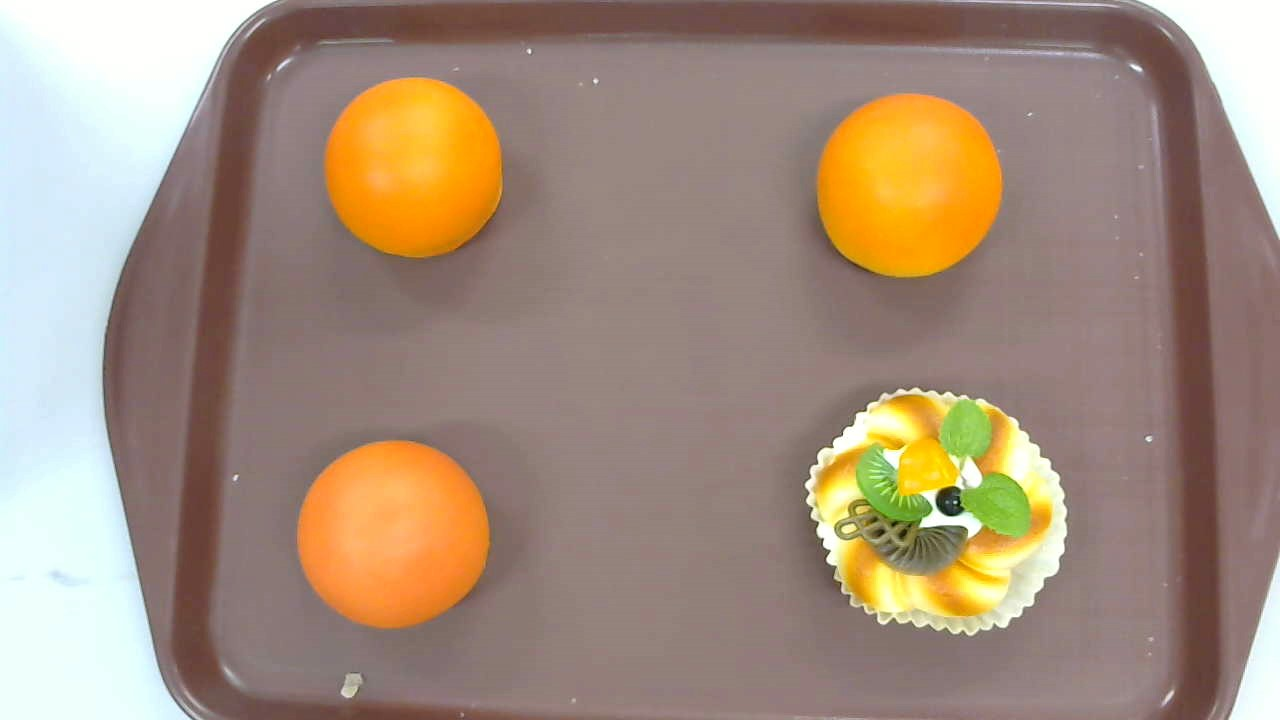bun: (297, 440, 490, 628), (816, 92, 1003, 277), (325, 78, 502, 258)
fruit tart: (805, 388, 1069, 635)
